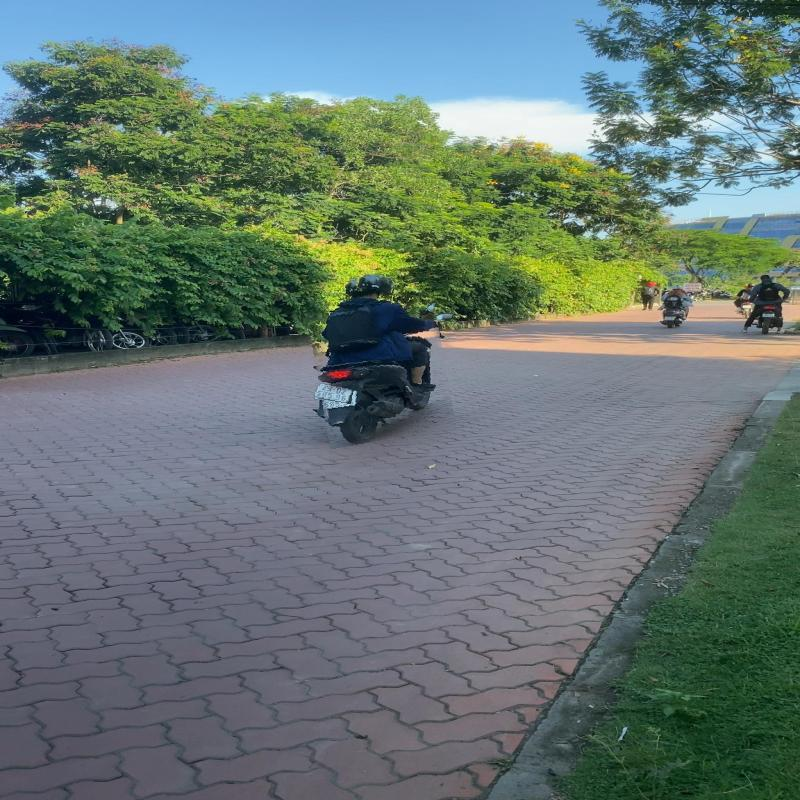helmet: (308, 270, 450, 444), (356, 274, 398, 296)
licenseplate: (312, 384, 353, 403)
